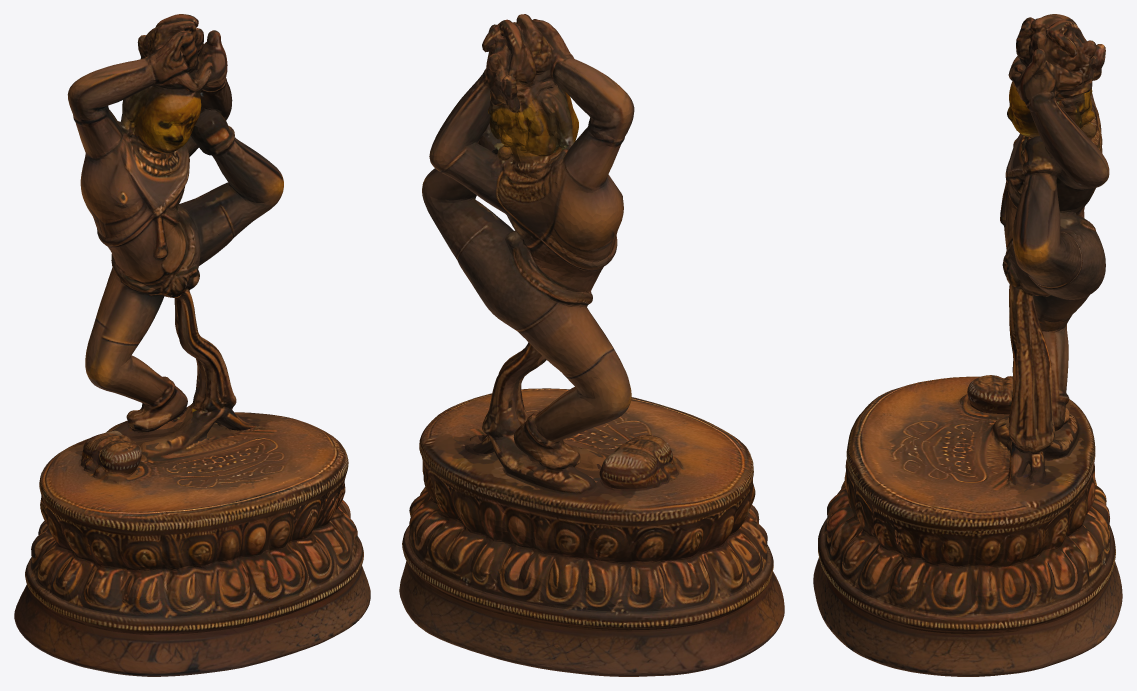
3 views of the same model, side by side, from view 1: azimuth 30°, elevation 25°; view 2: azimuth 150°, elevation 25°; view 3: azimuth 270°, elevation 25° (orthographic). The views are drawn at different scales.
Visible parts, largest first — view 1: textured_mesh; view 2: textured_mesh; view 3: textured_mesh.
Part boxes in pixels (x1=…): textured_mesh: x1=14, y1=14, x2=370, y2=676; textured_mesh: x1=399, y1=14, x2=784, y2=676; textured_mesh: x1=813, y1=14, x2=1122, y2=676.
Size of the model in its own units: 1.18 by 1.99 by 0.9397.
1 material, 1 textured.
